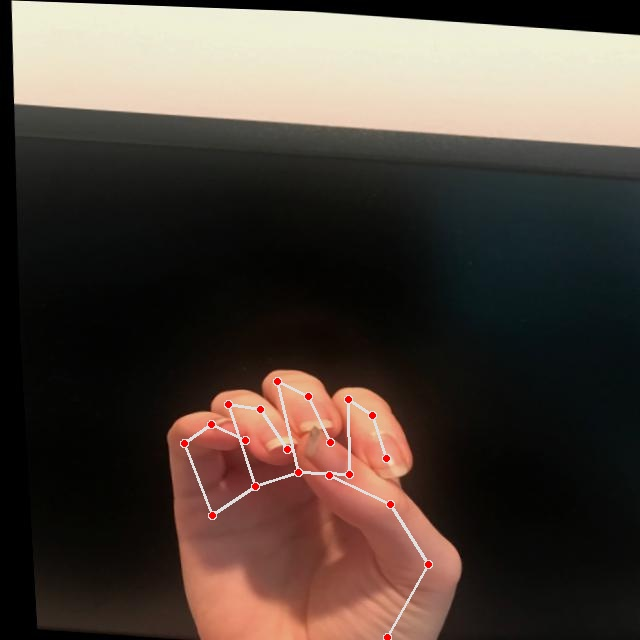O: (139, 352, 472, 639)
